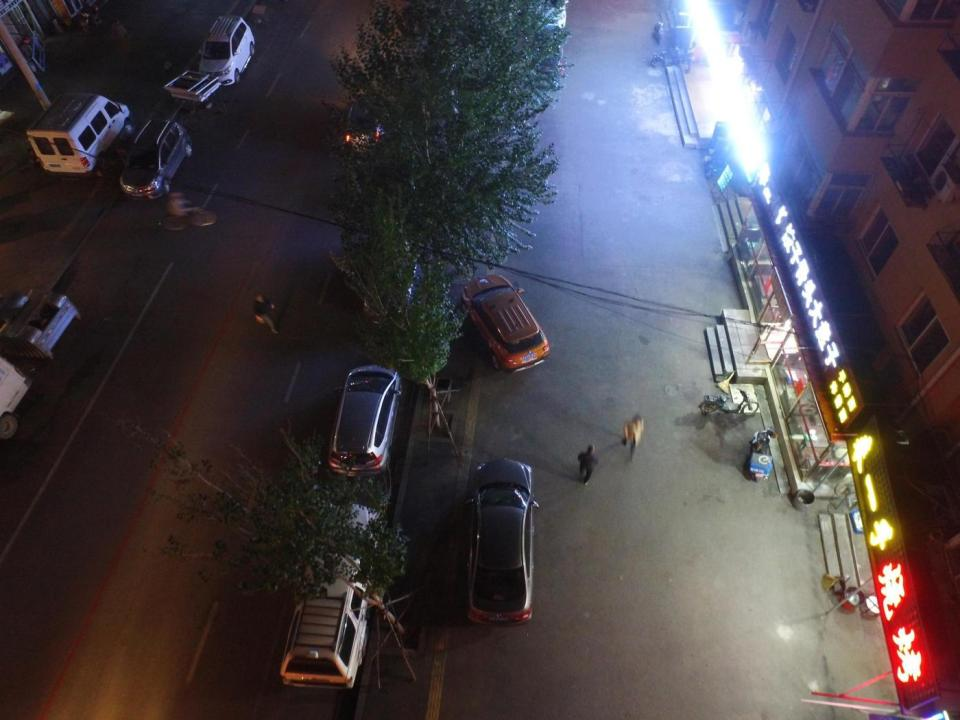car: (280, 506, 382, 688), (466, 459, 530, 627), (462, 274, 550, 372), (327, 364, 401, 477), (121, 120, 193, 198), (364, 221, 418, 325), (200, 15, 255, 87), (344, 88, 392, 154), (527, 28, 564, 84), (534, 0, 566, 29)
van: (28, 93, 128, 178)
